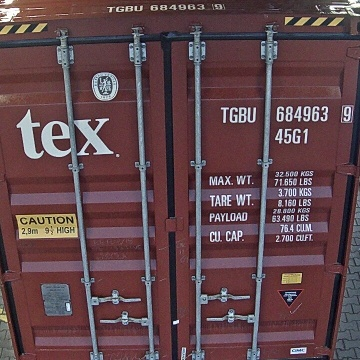serial_id: (221, 105, 353, 122)
